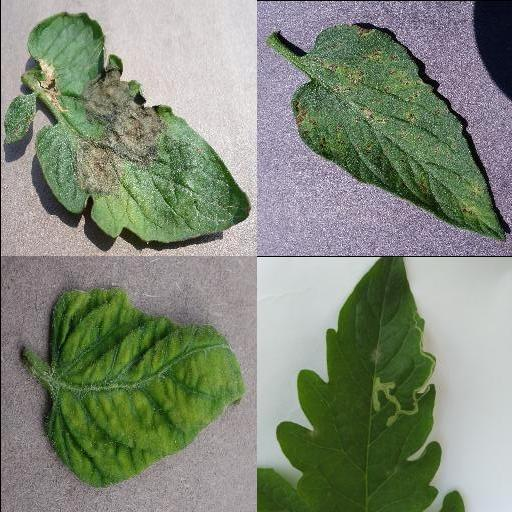Late Blight: (27, 11, 251, 245)
Leaf Miner: (276, 256, 442, 512)
Septoria: (292, 23, 504, 245)
Yellow Leaf Curl Virus: (47, 286, 247, 488)
